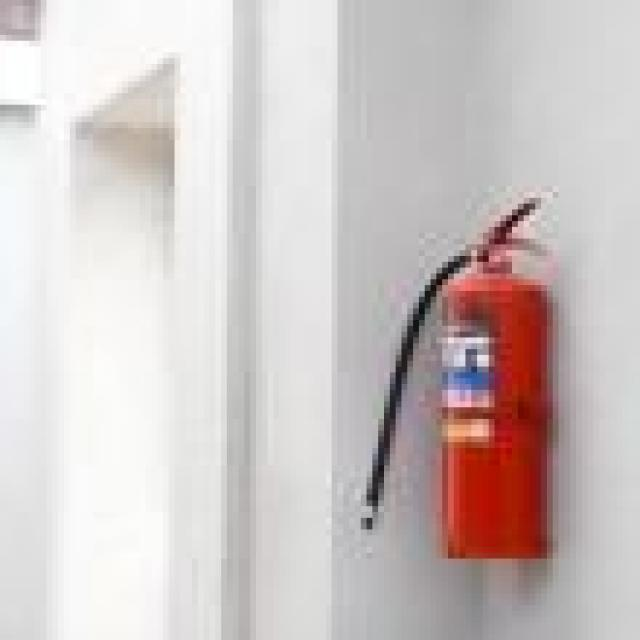fire_extinguisher: (349, 186, 553, 559)
